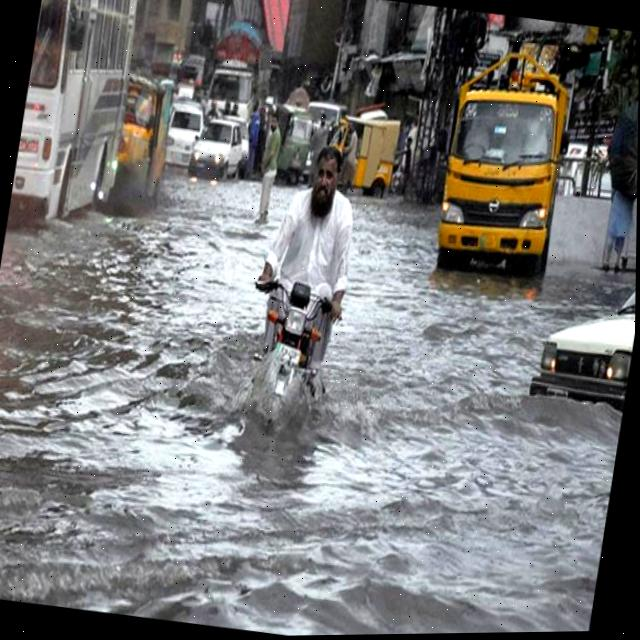civilian: (265, 139, 377, 334), (243, 109, 296, 218), (591, 175, 637, 278)
